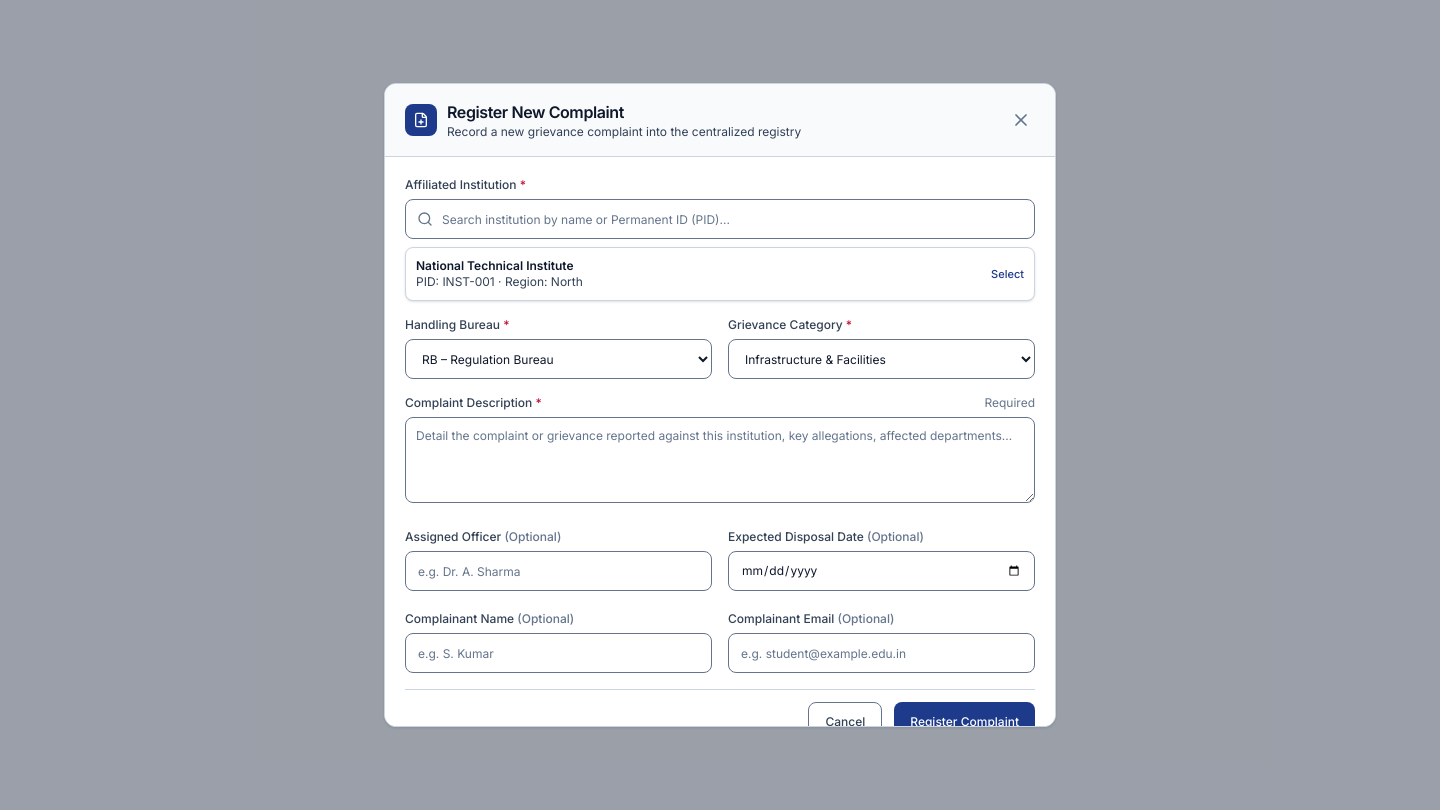
Test case: NewComplaintModal UX & Overlap Decoupling › 1. createCase resolves while scan is slow: saved confirmation appears immediately with corrected subtitle
Click the text "National Technical Institute".
click(499, 266)  # box left=416, top=258, right=583, bottom=274
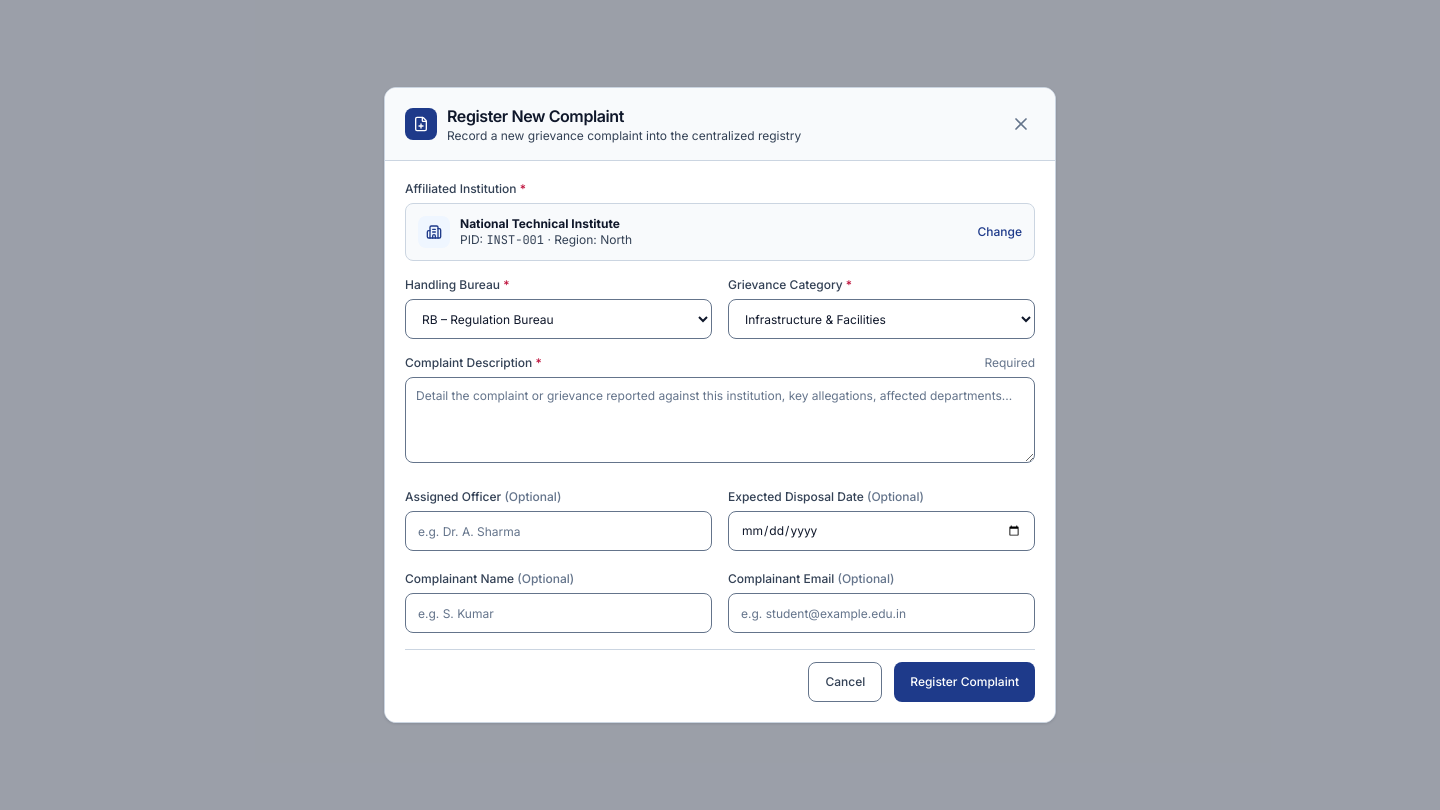
Replace the text in the text box labelled "Complaint Description *" with "Water leakage in main academic lab block" at (720, 420), box left=405, top=377, right=1035, bottom=463
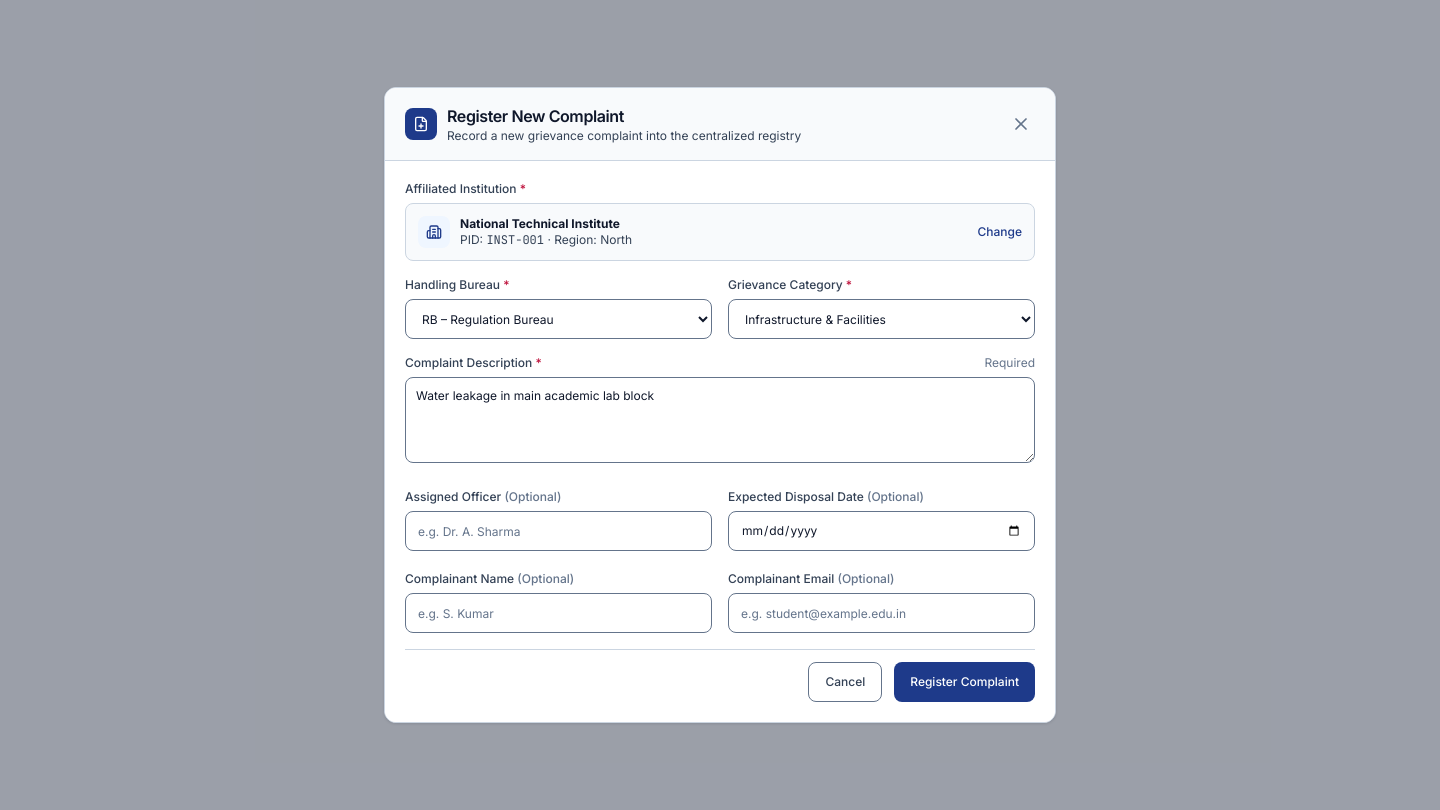
Click the button "Register Complaint".
click(965, 682)  # box left=894, top=662, right=1035, bottom=702
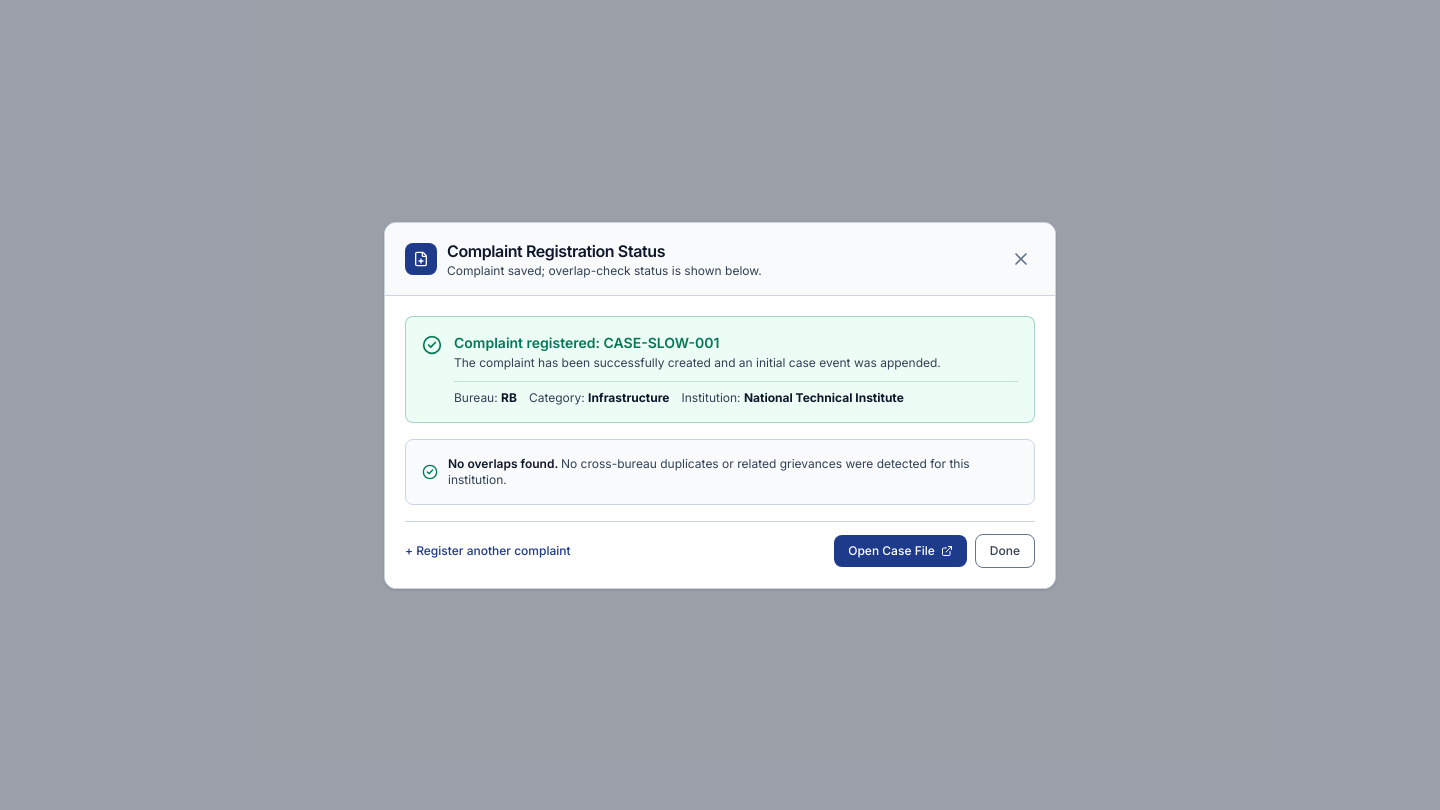
Result: the heading "Complaint registered: CASE-SLOW-001" is shown at left=454, top=334, right=719, bottom=350
Result: the text "Complaint saved; overlap-check status is shown below." is shown at left=447, top=262, right=762, bottom=278
Result: the text "Open Case File" is shown at left=848, top=542, right=935, bottom=558
